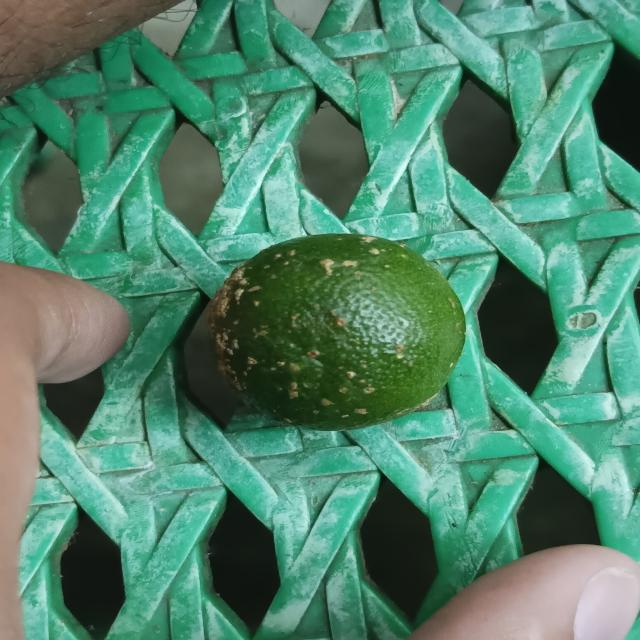scab: (204, 232, 470, 431)
